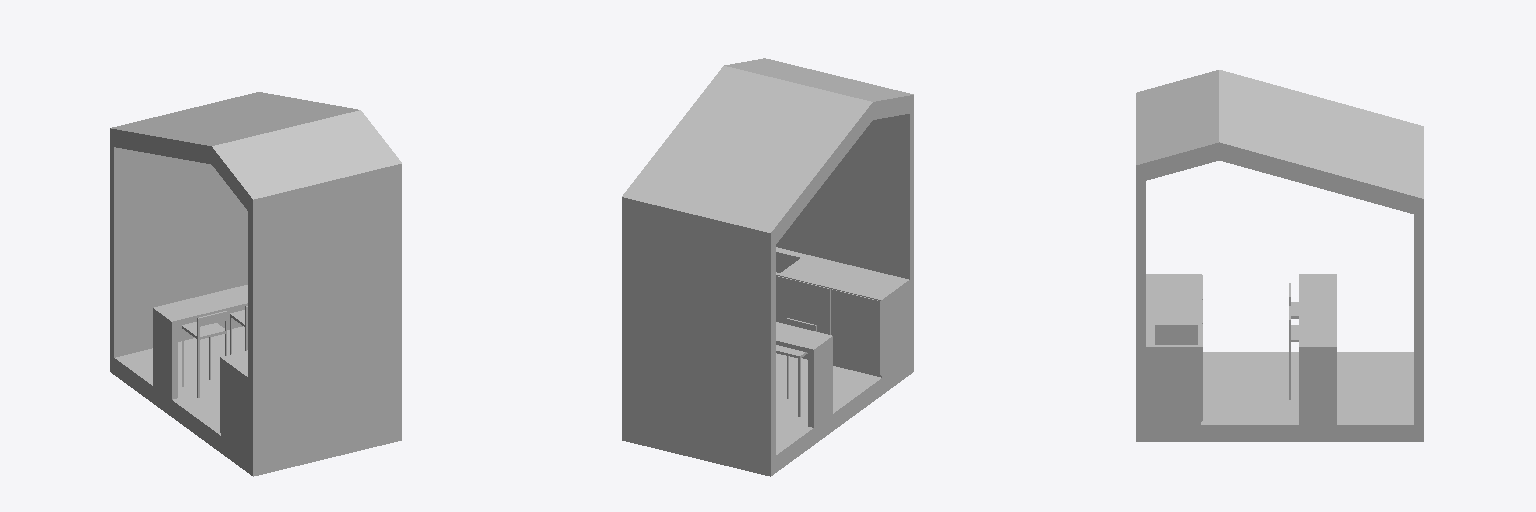
File: 3D_2.7_SIM.obj
The picture shows the model from 3 angles: view 1: azimuth 30°, elevation 25°; view 2: azimuth 150°, elevation 25°; view 3: azimuth 270°, elevation 25°; orthographic projection.
Visible parts, largest first — view 1: 3D_2.7_SIM; view 2: 3D_2.7_SIM; view 3: 3D_2.7_SIM.
Boxes of the visible parts, x1=… form: 3D_2.7_SIM: x1=110, y1=92, x2=401, y2=476; 3D_2.7_SIM: x1=622, y1=58, x2=913, y2=476; 3D_2.7_SIM: x1=1136, y1=70, x2=1423, y2=441.
Size of the model in its own units: 1.8 by 3.46 by 3.